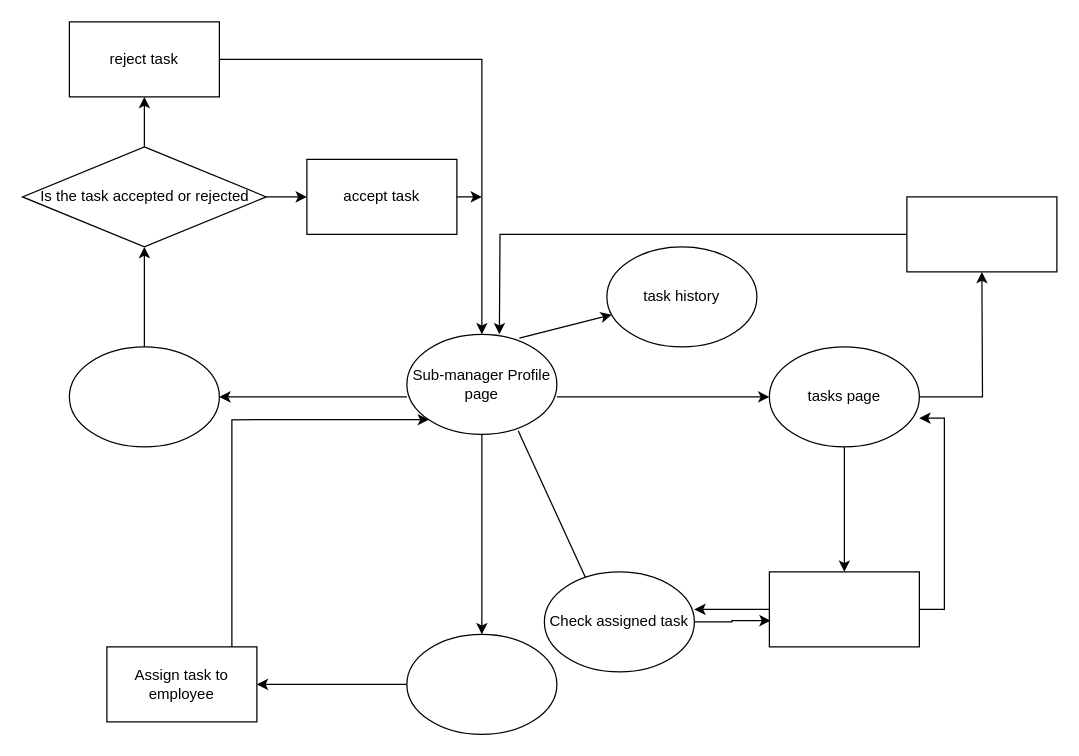
This 1079x756 diagram has some shape labels left out. Here are the shapes that lost their labels. From the top down, the box of each, then its label:
(906, 196, 1057, 272): turn in task
(68, 346, 219, 447): Task Status page
(768, 571, 919, 647): Comment task
(406, 633, 557, 734): Assign task page
